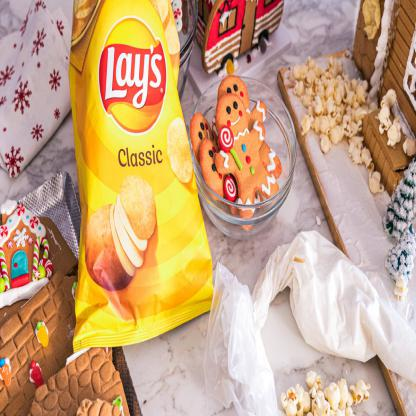potatochip: (67, 0, 226, 357)
